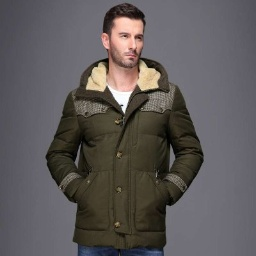face: (101, 3, 147, 70)
